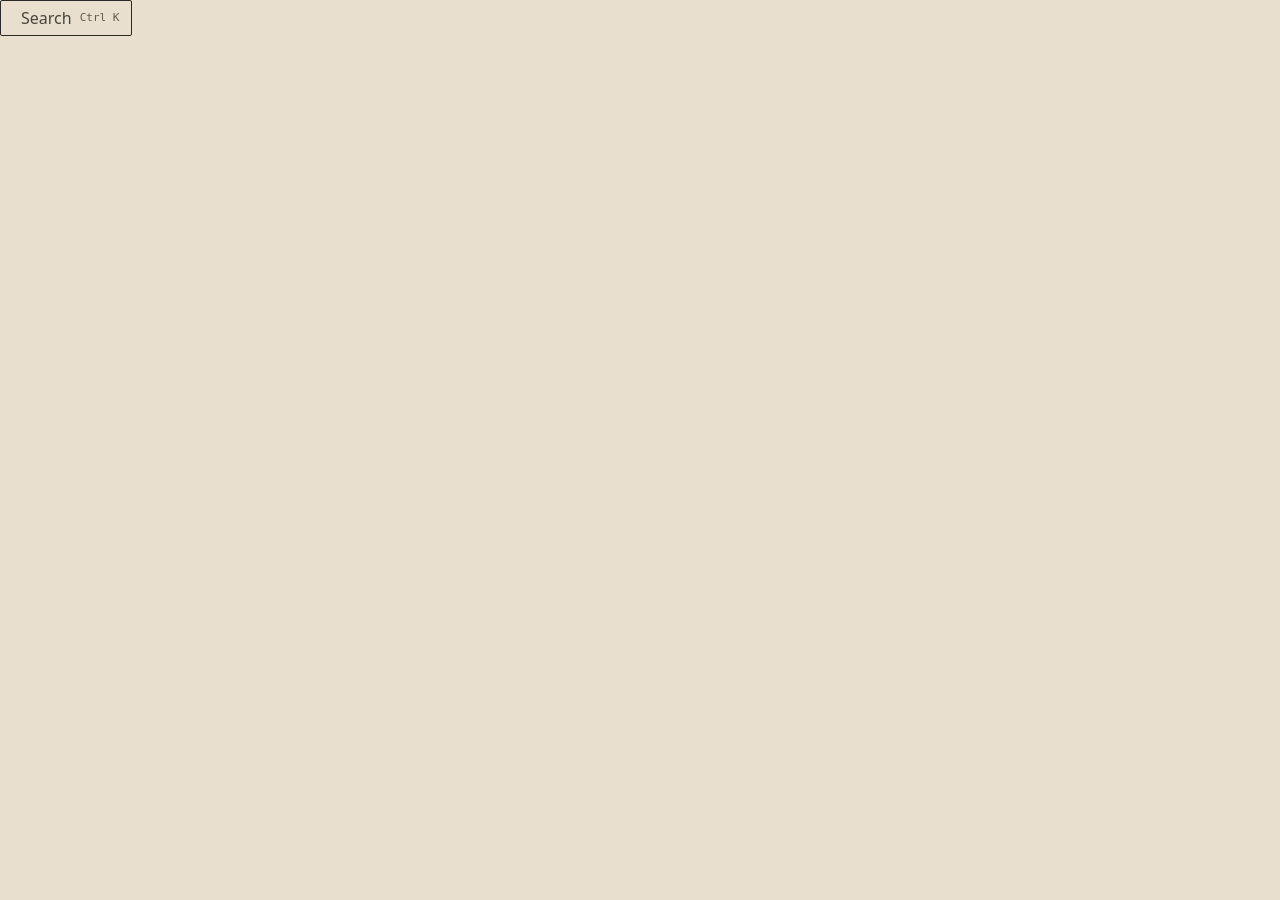
Scenario: search › shows a failed search as an error, not as no results
The width and height of the screenshot is (1280, 900).
Click the button "Search Ctrl K": (66, 18) [0,0,132,36]
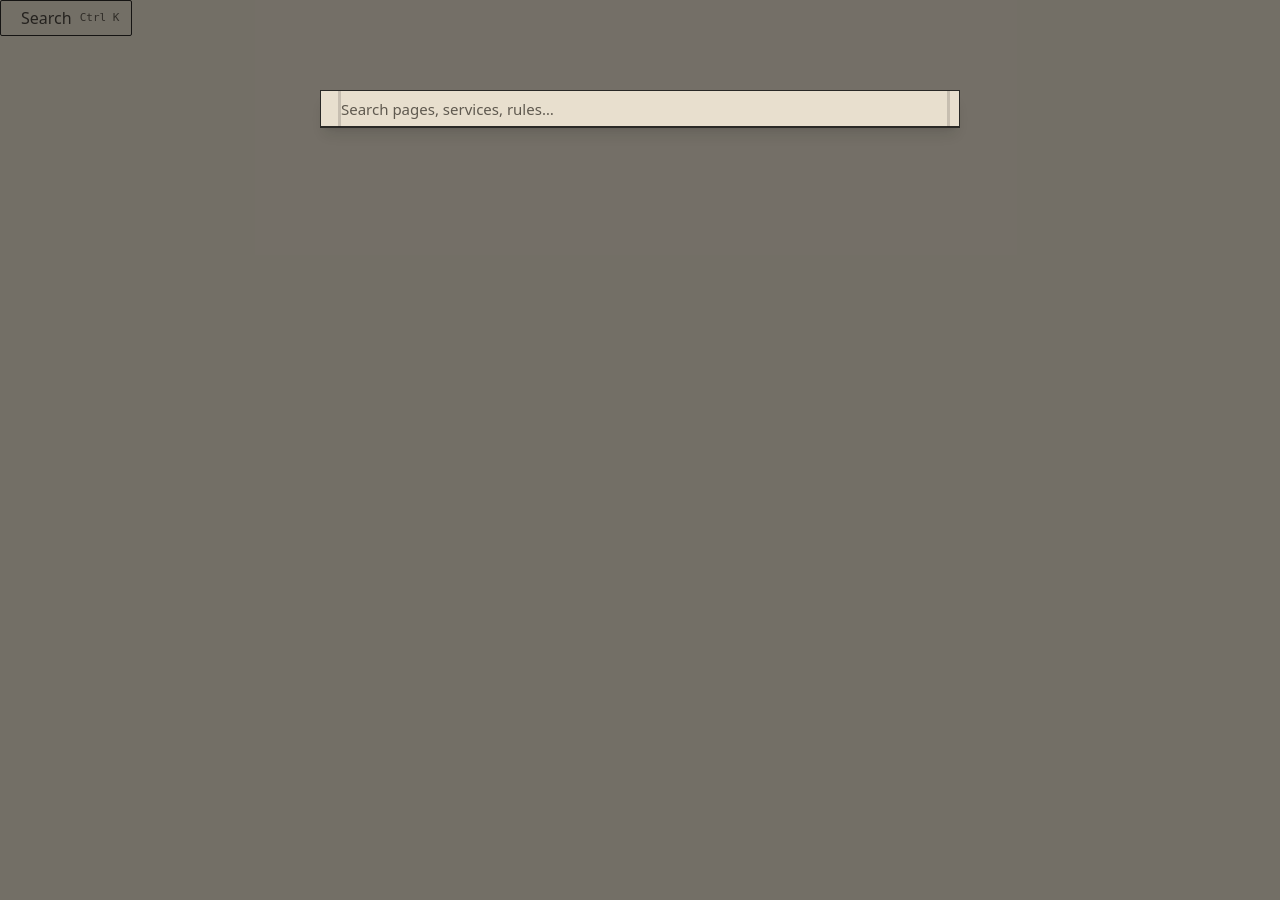
In the dropdown: (644, 108) [341,84,947,132], type "x"
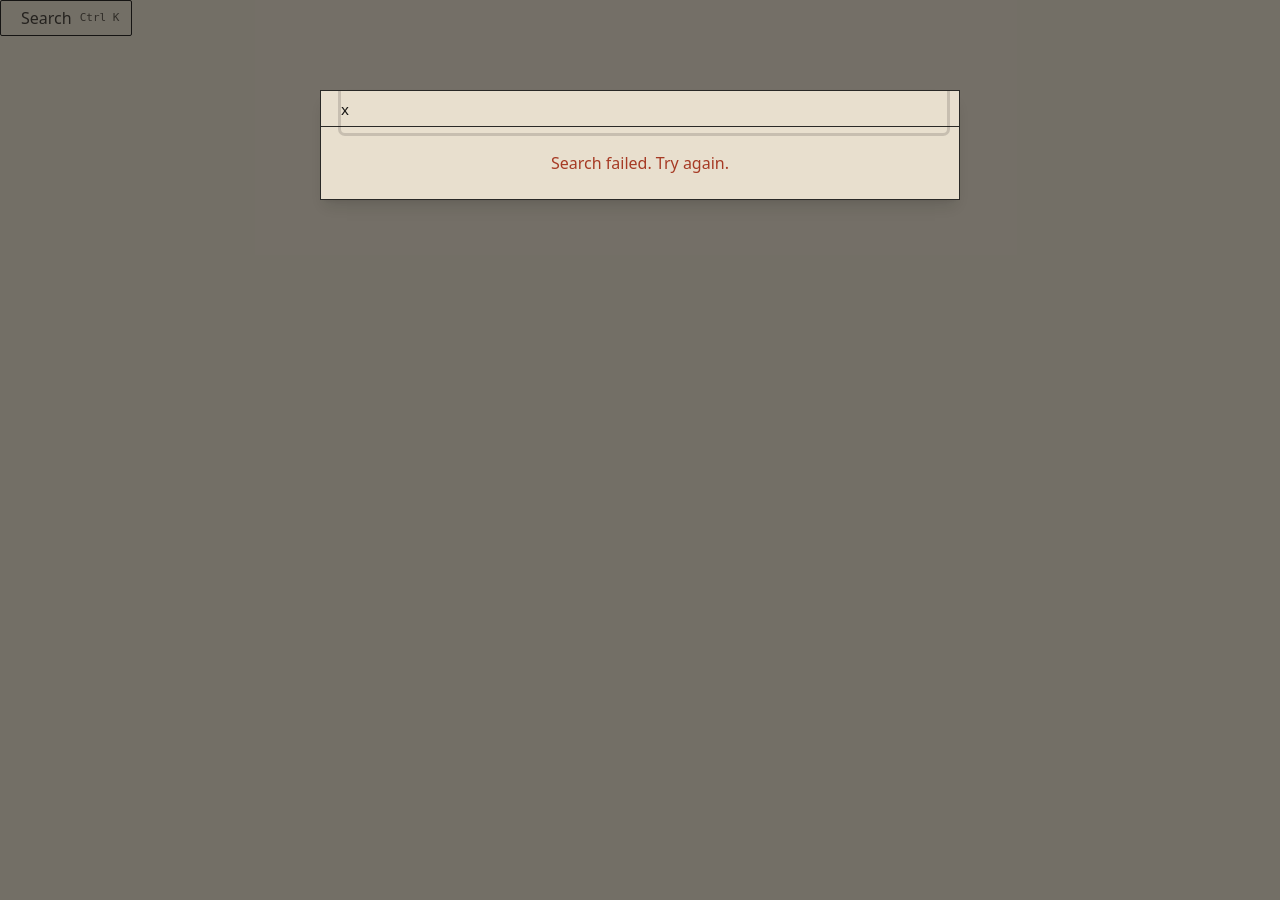
Now the message shows "Search failed", box [551,152,729,174]
